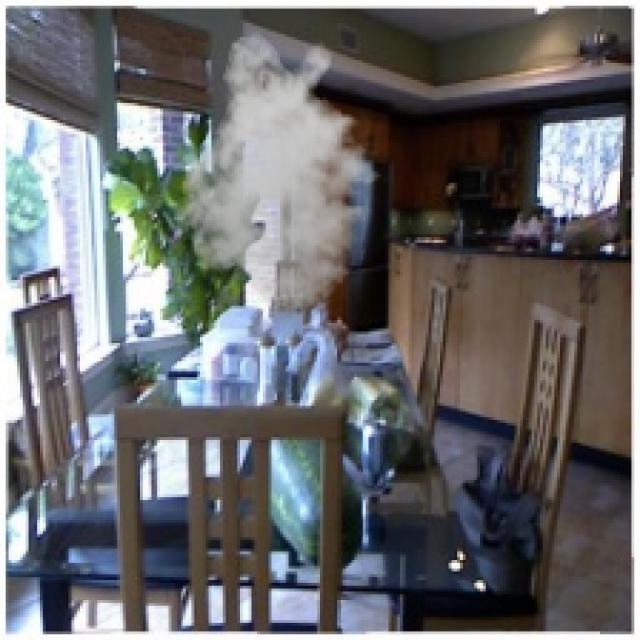smoke: (168, 31, 392, 312)
